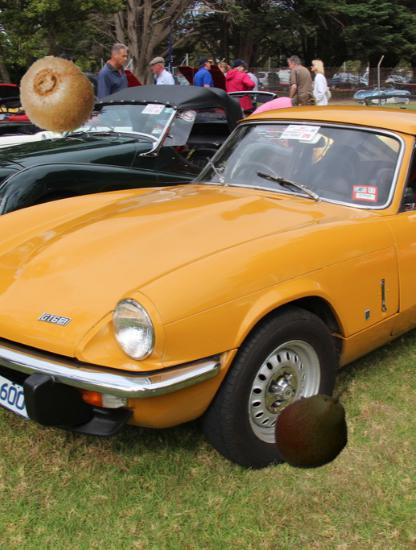Kiwi: (18, 55, 99, 136)
Pear: (266, 376, 364, 474)
